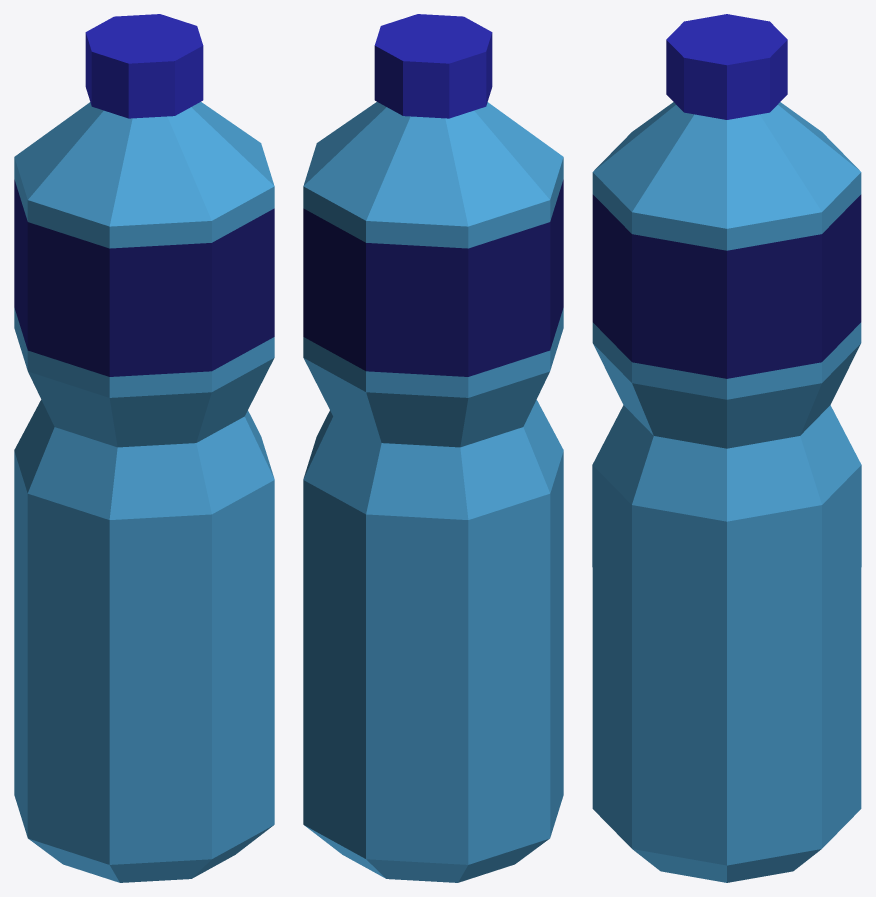
File: WaterBottle_Consu.glb
The picture shows the model from 3 angles, left to right: view 1: azimuth 30°, elevation 25°; view 2: azimuth 150°, elevation 25°; view 3: azimuth 270°, elevation 25°; orthographic projection.
Parts seen in each view (by area): view 1: waterBottle; view 2: waterBottle; view 3: waterBottle.
Part boxes in pixels (bbox=[...]): waterBottle: bbox=[14, 14, 274, 882]; waterBottle: bbox=[303, 14, 563, 882]; waterBottle: bbox=[592, 14, 861, 882].
Bounding box in the file's own units: 0.1001 × 0.3299 × 0.1001.
Materials: 1 (1 with a texture image).
